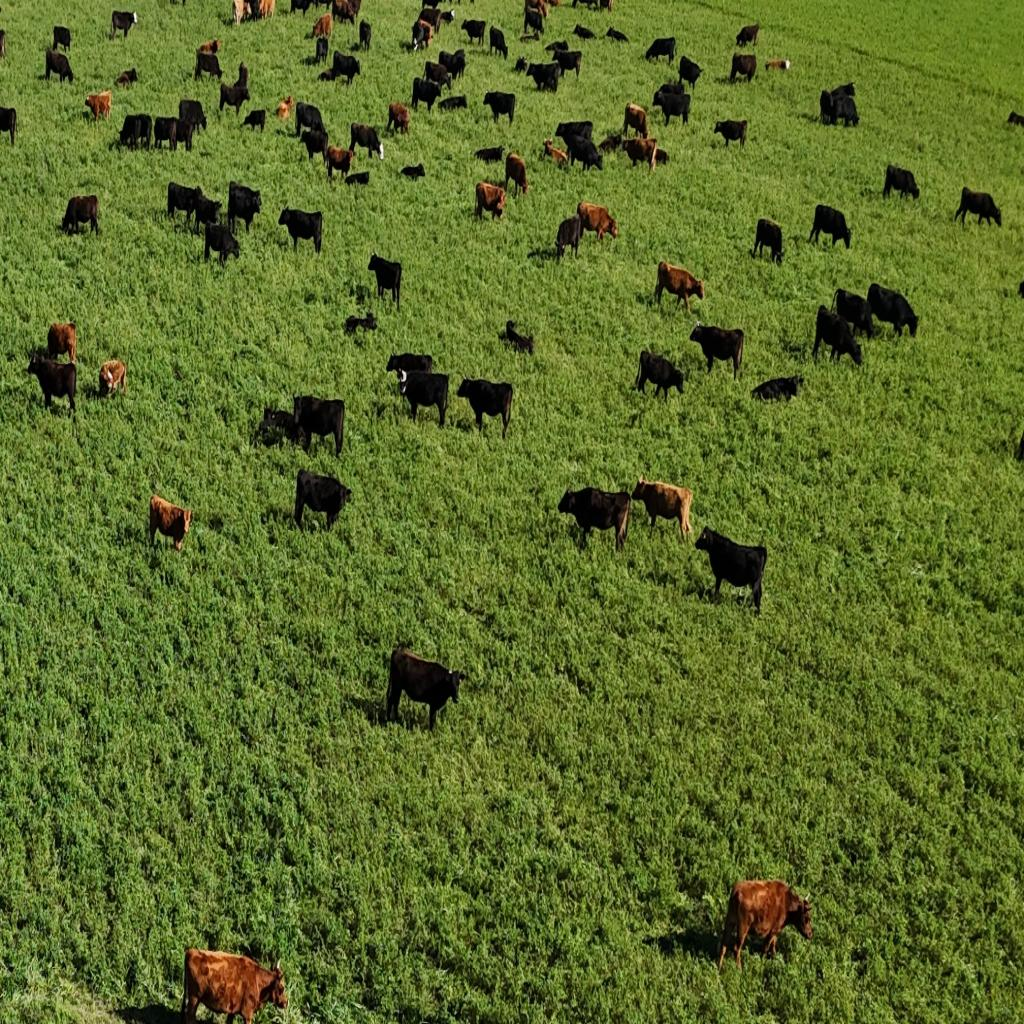cow: (717, 876, 813, 972), (180, 945, 288, 1023), (385, 646, 467, 733), (695, 526, 766, 615), (558, 487, 628, 556), (725, 20, 785, 91), (632, 476, 692, 544), (295, 468, 353, 532), (458, 376, 513, 438), (556, 206, 616, 261), (26, 353, 77, 417), (293, 395, 345, 457), (690, 322, 744, 381), (396, 368, 457, 420), (813, 305, 863, 368), (866, 282, 918, 338), (148, 494, 193, 554), (634, 346, 682, 399), (656, 262, 703, 316), (834, 288, 876, 340), (278, 207, 321, 256), (808, 204, 851, 252), (368, 252, 403, 309), (955, 188, 1002, 230), (228, 180, 262, 234), (204, 221, 241, 268), (167, 182, 203, 230), (188, 190, 222, 240), (262, 406, 302, 447), (60, 194, 99, 236), (820, 86, 858, 128), (750, 375, 802, 404), (752, 218, 784, 264), (883, 163, 920, 202), (654, 88, 690, 127), (349, 122, 383, 163), (324, 51, 362, 87), (475, 181, 507, 223), (119, 113, 152, 153), (568, 133, 602, 171), (386, 351, 432, 379), (48, 322, 77, 366), (98, 358, 128, 399), (505, 152, 531, 199), (411, 77, 443, 115), (325, 144, 355, 184), (178, 98, 207, 138), (714, 118, 748, 152), (526, 62, 560, 96), (624, 137, 657, 172), (296, 100, 326, 138), (483, 91, 515, 125), (504, 320, 534, 356), (219, 82, 249, 118), (300, 126, 328, 164), (45, 49, 74, 85), (154, 116, 181, 154), (551, 48, 582, 80), (234, 0, 274, 24), (84, 90, 112, 124), (438, 49, 466, 83), (424, 60, 452, 94), (623, 102, 648, 140), (555, 120, 591, 145), (678, 55, 702, 92), (730, 52, 757, 84), (195, 51, 222, 83), (388, 101, 412, 137), (523, 2, 546, 38), (344, 311, 378, 335), (645, 36, 675, 63), (111, 10, 137, 40), (416, 5, 442, 35), (332, 0, 360, 26), (543, 137, 568, 166), (176, 118, 196, 154), (411, 20, 432, 53), (0, 105, 17, 145), (461, 19, 485, 46), (736, 22, 760, 48), (490, 27, 508, 60), (241, 109, 266, 132), (598, 132, 623, 155), (474, 145, 504, 164), (437, 94, 467, 113), (52, 24, 71, 53), (398, 162, 426, 180), (312, 14, 332, 39), (113, 68, 137, 88), (650, 96, 667, 124), (829, 82, 855, 100), (290, 0, 316, 18), (196, 38, 221, 56), (276, 95, 294, 120), (662, 78, 686, 96), (315, 36, 329, 66), (359, 20, 372, 52), (1007, 269, 1021, 297), (572, 24, 596, 40), (230, 0, 246, 24), (529, 0, 549, 19), (606, 26, 628, 43), (345, 171, 369, 186), (436, 8, 456, 26), (405, 34, 423, 54), (1005, 111, 1024, 129), (545, 40, 569, 54), (238, 62, 248, 90), (0, 28, 8, 62), (514, 56, 528, 75), (504, 320, 518, 338), (318, 70, 336, 82), (599, 0, 613, 12), (736, 32, 746, 46)
